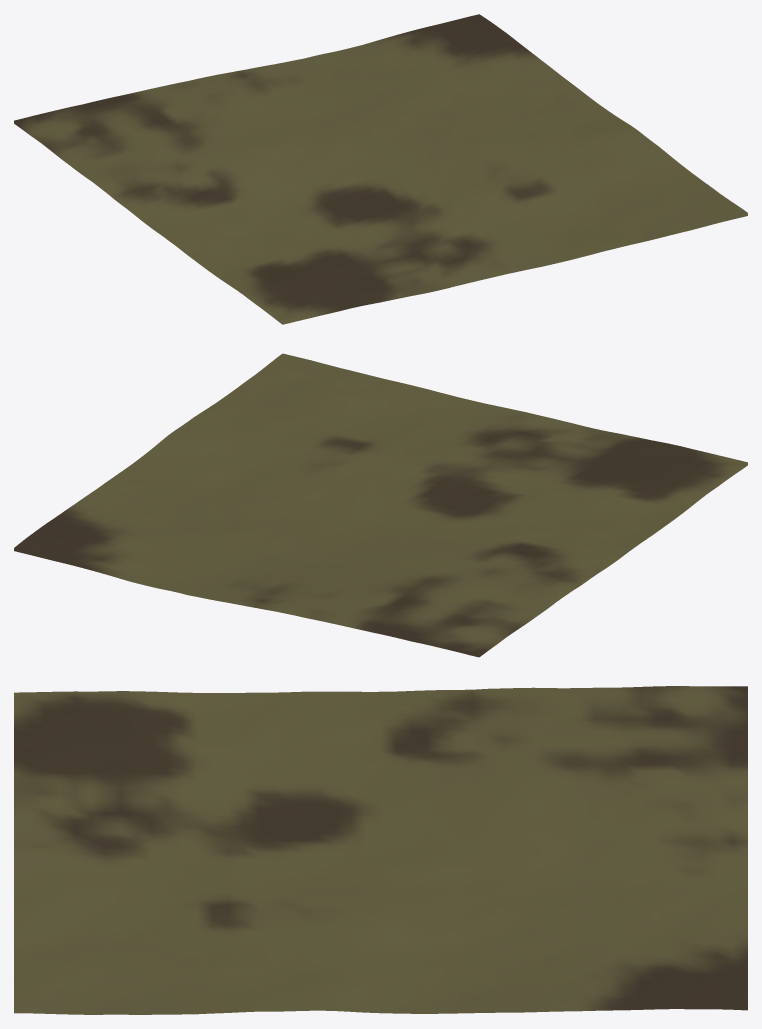
The model's file is land_m_03_05.glb.
The picture shows the model from 3 angles, top to bottom: view 1: azimuth 30°, elevation 25°; view 2: azimuth 150°, elevation 25°; view 3: azimuth 270°, elevation 25°; orthographic projection. The views are drawn at different scales.
Parts seen in each view (by area): view 1: land_m_03_05; view 2: land_m_03_05; view 3: land_m_03_05.
Boxes of the visible parts, bbox=[...] form: land_m_03_05: bbox=[14, 14, 747, 324]; land_m_03_05: bbox=[14, 353, 747, 657]; land_m_03_05: bbox=[14, 686, 747, 1014].
Bounding box in the file's own units: 960 × 27.34 × 960.
